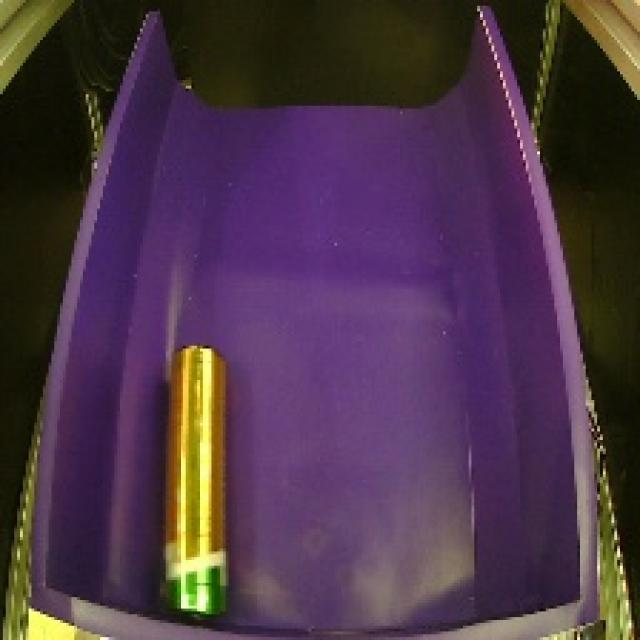battery: (148, 335, 245, 626)
